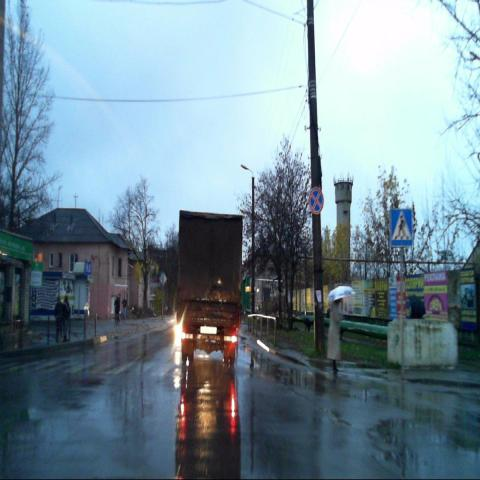3_27: (308, 186, 324, 214)
5_19_1: (390, 209, 412, 248)
